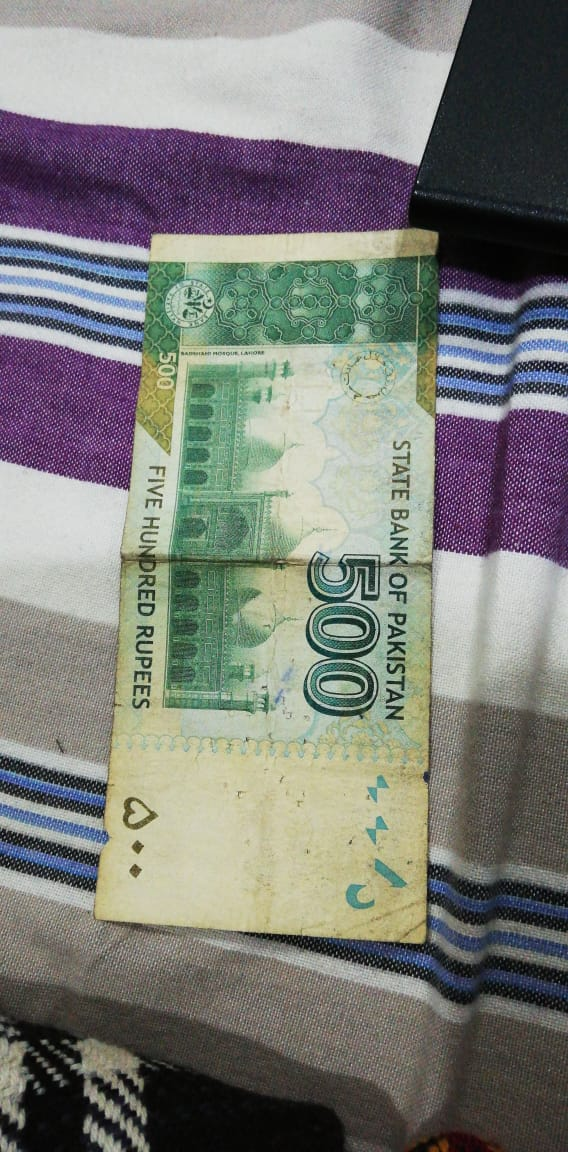500 rupee: (98, 216, 470, 988)
